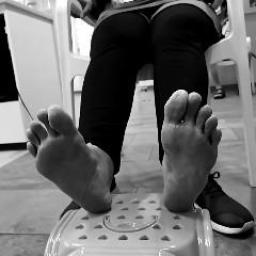Plantar View -Both Feet-: (6, 76, 248, 234)
